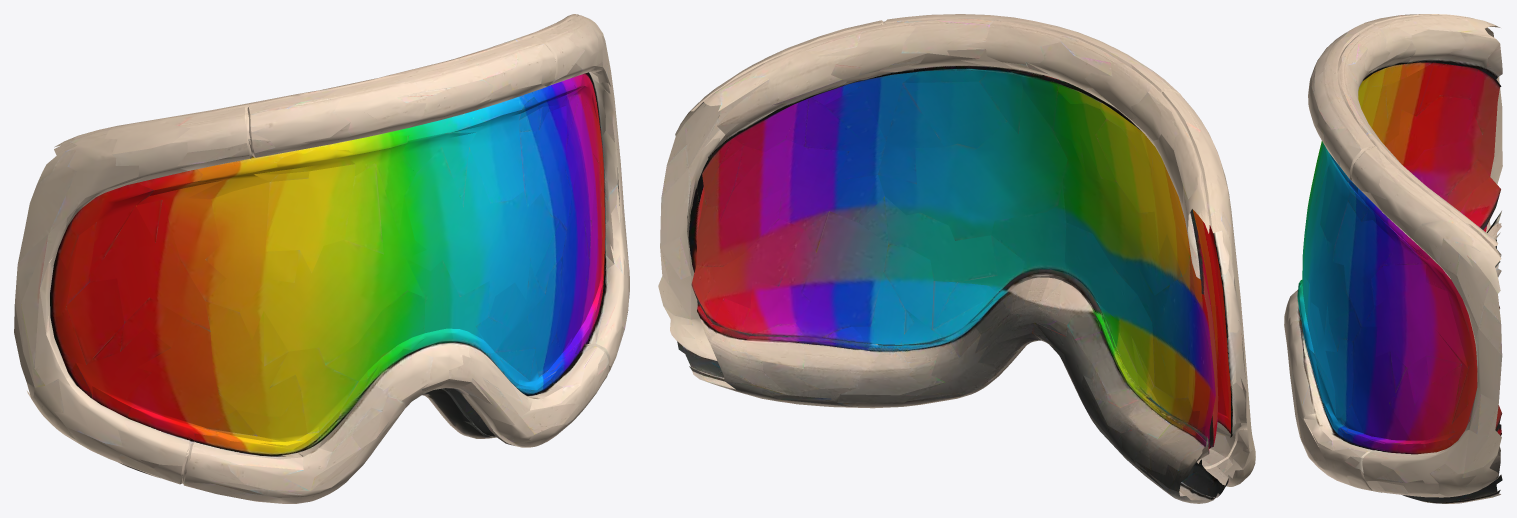
File: ski_goggles.glb
3 renders of one model, left to right at view 1: azimuth 30°, elevation 25°; view 2: azimuth 150°, elevation 25°; view 3: azimuth 270°, elevation 25°, orthographic. The views are drawn at different scales.
Parts seen in each view (by area): view 1: Mesh_0; view 2: Mesh_0; view 3: Mesh_0.
Part boxes in pixels (bbox=[...]): Mesh_0: bbox=[14, 14, 629, 503]; Mesh_0: bbox=[658, 14, 1255, 503]; Mesh_0: bbox=[1284, 14, 1502, 503].
Size of the model in its own units: 1 by 0.6388 by 0.3578.
1 material, 1 textured.
